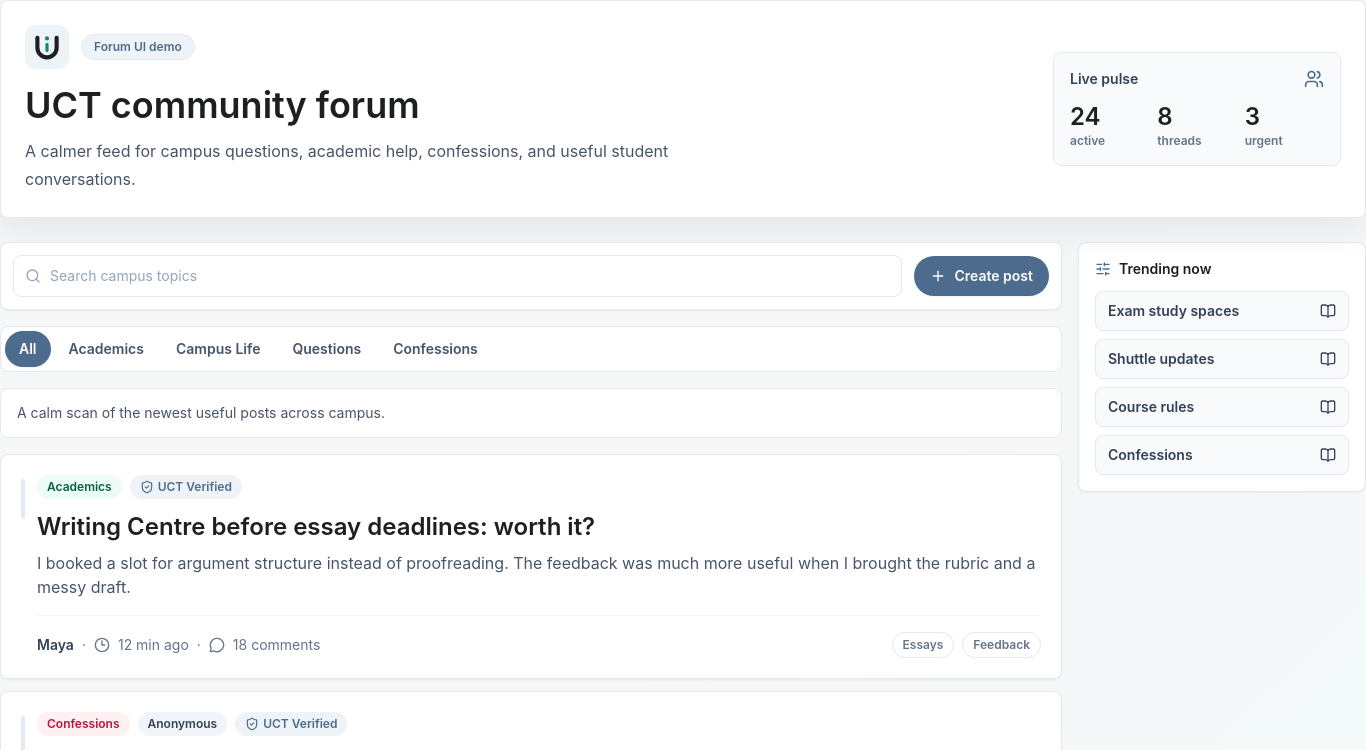
Scenario: ForumDemoPage › renders the demo feed and filters the sample posts
Check: the heading "UCT community forum" is shown, box [25, 83, 420, 127]
Check: the heading "Writing Centre before essay deadlines: worth it?" is shown, box [37, 512, 595, 541]
Click the 1st button "Confessions": (436, 349) [379, 331, 492, 367]
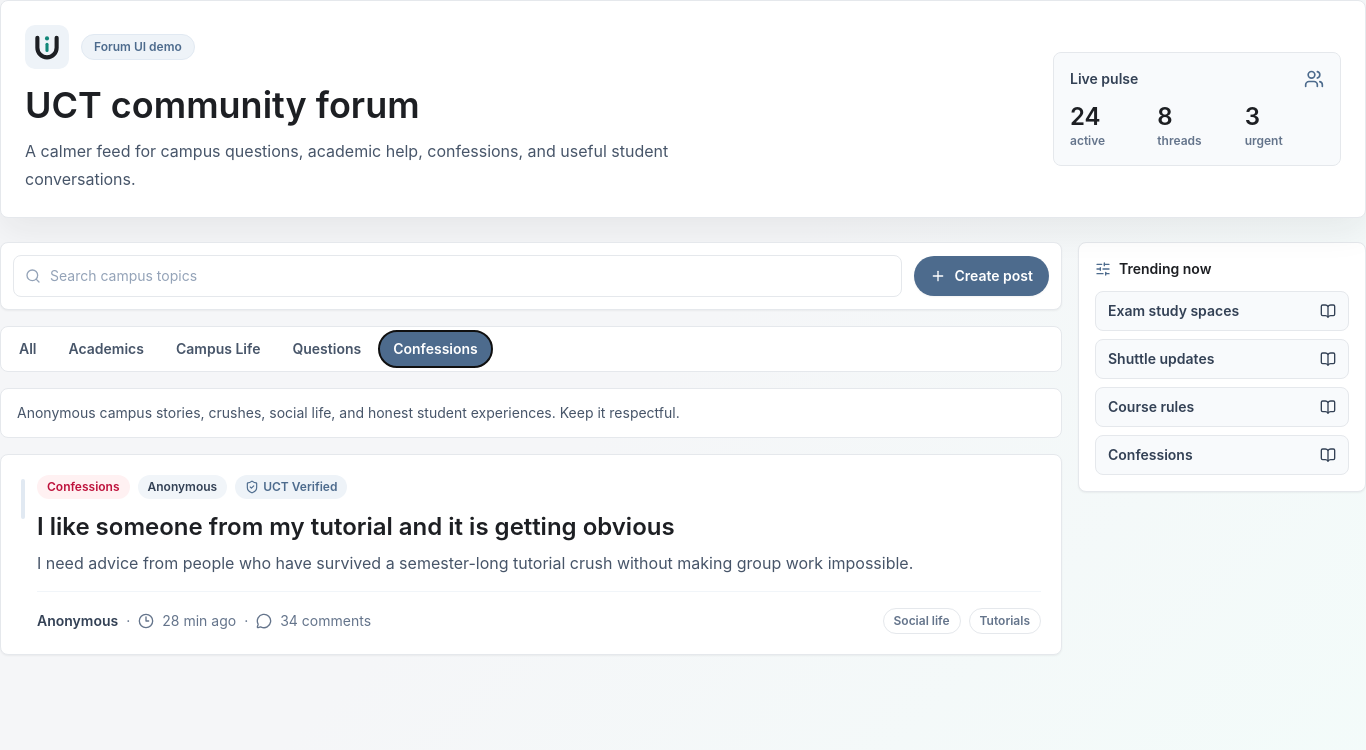
Check: the heading "I like someone from my tutorial and it is getting obvious" is shown, box [37, 512, 675, 541]
Check: the link "Writing Centre before essay deadlines: worth it?" is gone
In the search field named "Search demo posts": (458, 276) [13, 255, 902, 297], type "shuttle"
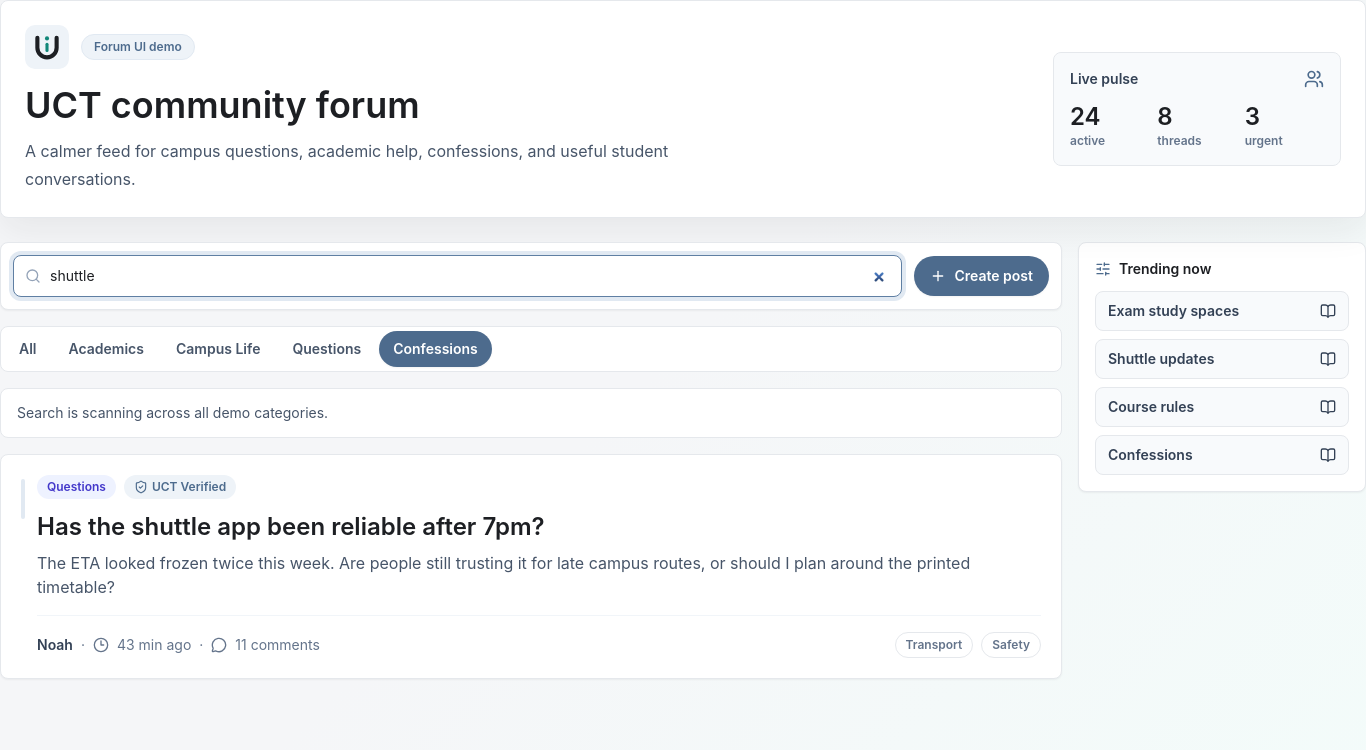
Check: the heading "Has the shuttle app been reliable after 7pm?" is shown, box [37, 512, 545, 541]
